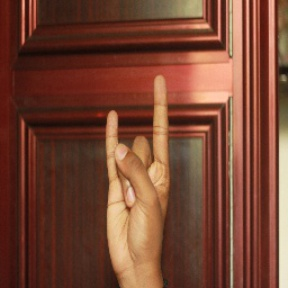V: (98, 73, 175, 266)
